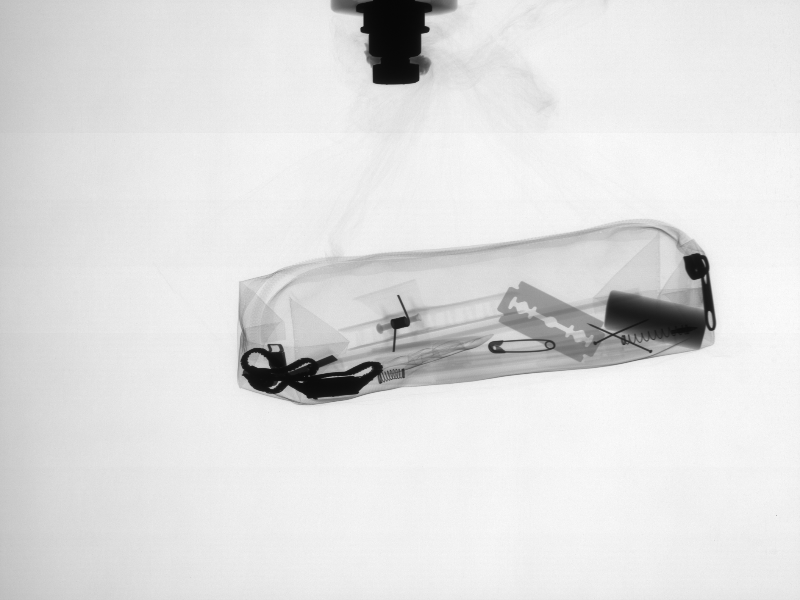bobby pin: (485, 337, 555, 353)
needle: (587, 319, 659, 355)
rasor blade: (507, 280, 605, 360)
rope: (241, 332, 379, 398)
string: (621, 334, 687, 346)
